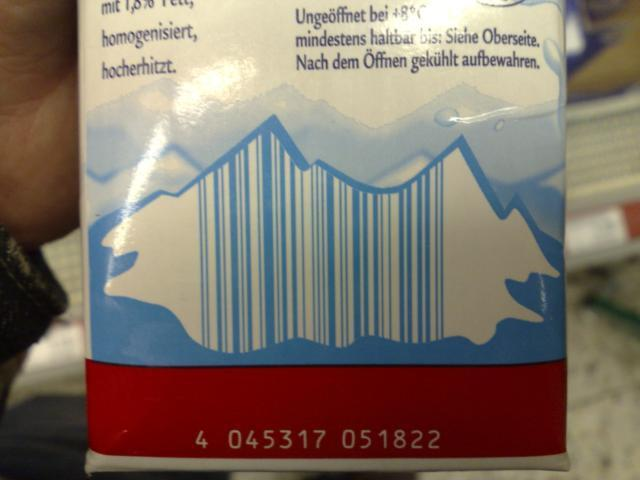Barcode: (180, 131, 449, 462)
